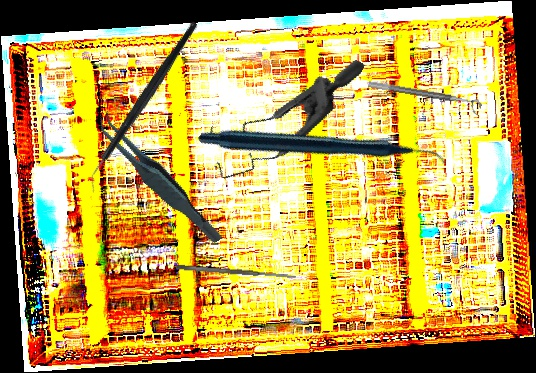Chopper: (45, 20, 242, 194)
Fixation Ring: (366, 80, 483, 117)
Handpiece: (196, 28, 448, 272)
Spatula Surgical: (175, 263, 297, 281)
Speculum: (193, 16, 366, 213)
Tissue Forceps: (93, 92, 224, 264)
